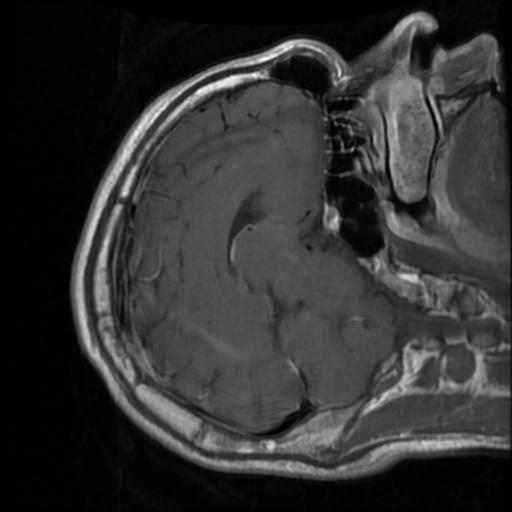pituitary tumour: (322, 205, 339, 231)
